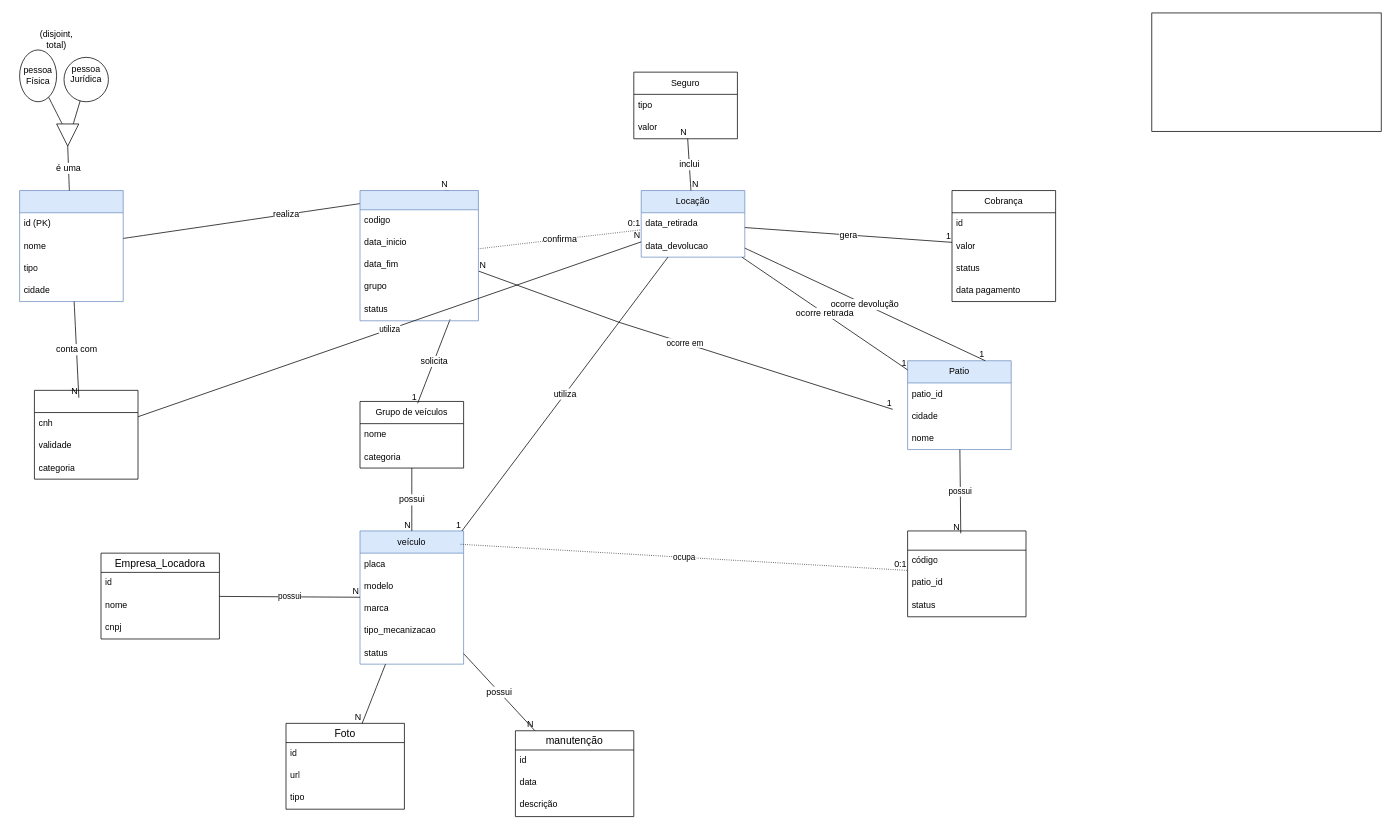
This 1394x832 diagram has some shape labels left out. The box of each missing label's shape, as (x1, y1, x2, y2) in pixels:
Cliente: (19, 190, 123, 302)
Condutor: (34, 390, 138, 479)
Grupo: Tadeu Belfort Neto -119034813 Vicente Alves 120044148: (1151, 12, 1381, 131)
Reserva: (359, 190, 478, 321)
Vaga: (907, 530, 1026, 617)
